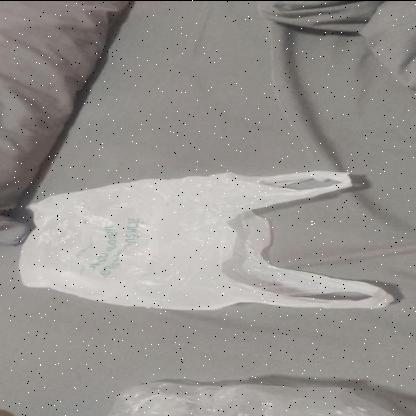Others: (16, 166, 398, 312)
